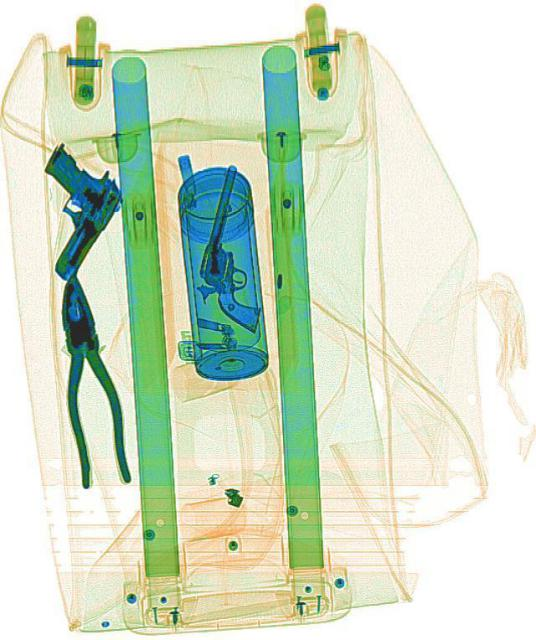Gun: (1, 138, 129, 286), (187, 161, 289, 329)
Pliers: (41, 266, 134, 494)
